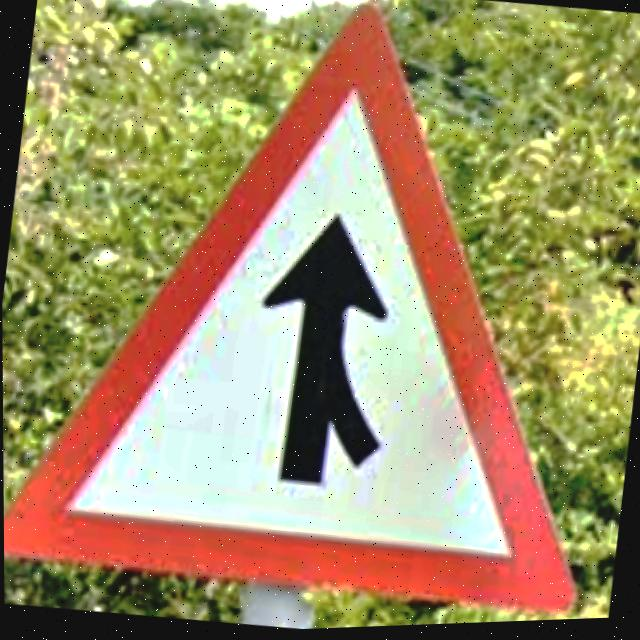rightmerge: (3, 7, 576, 618)
